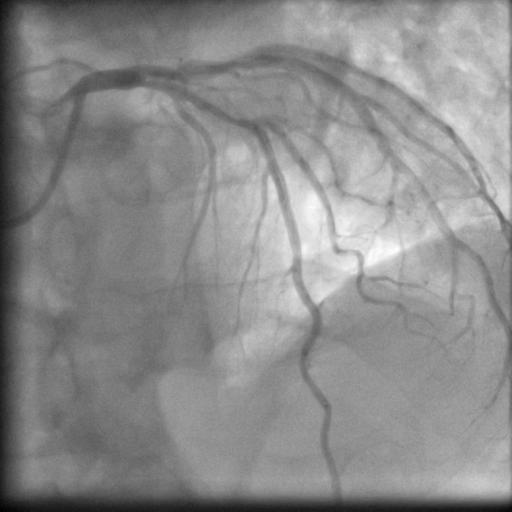Stenosis: (196, 94, 258, 124)
